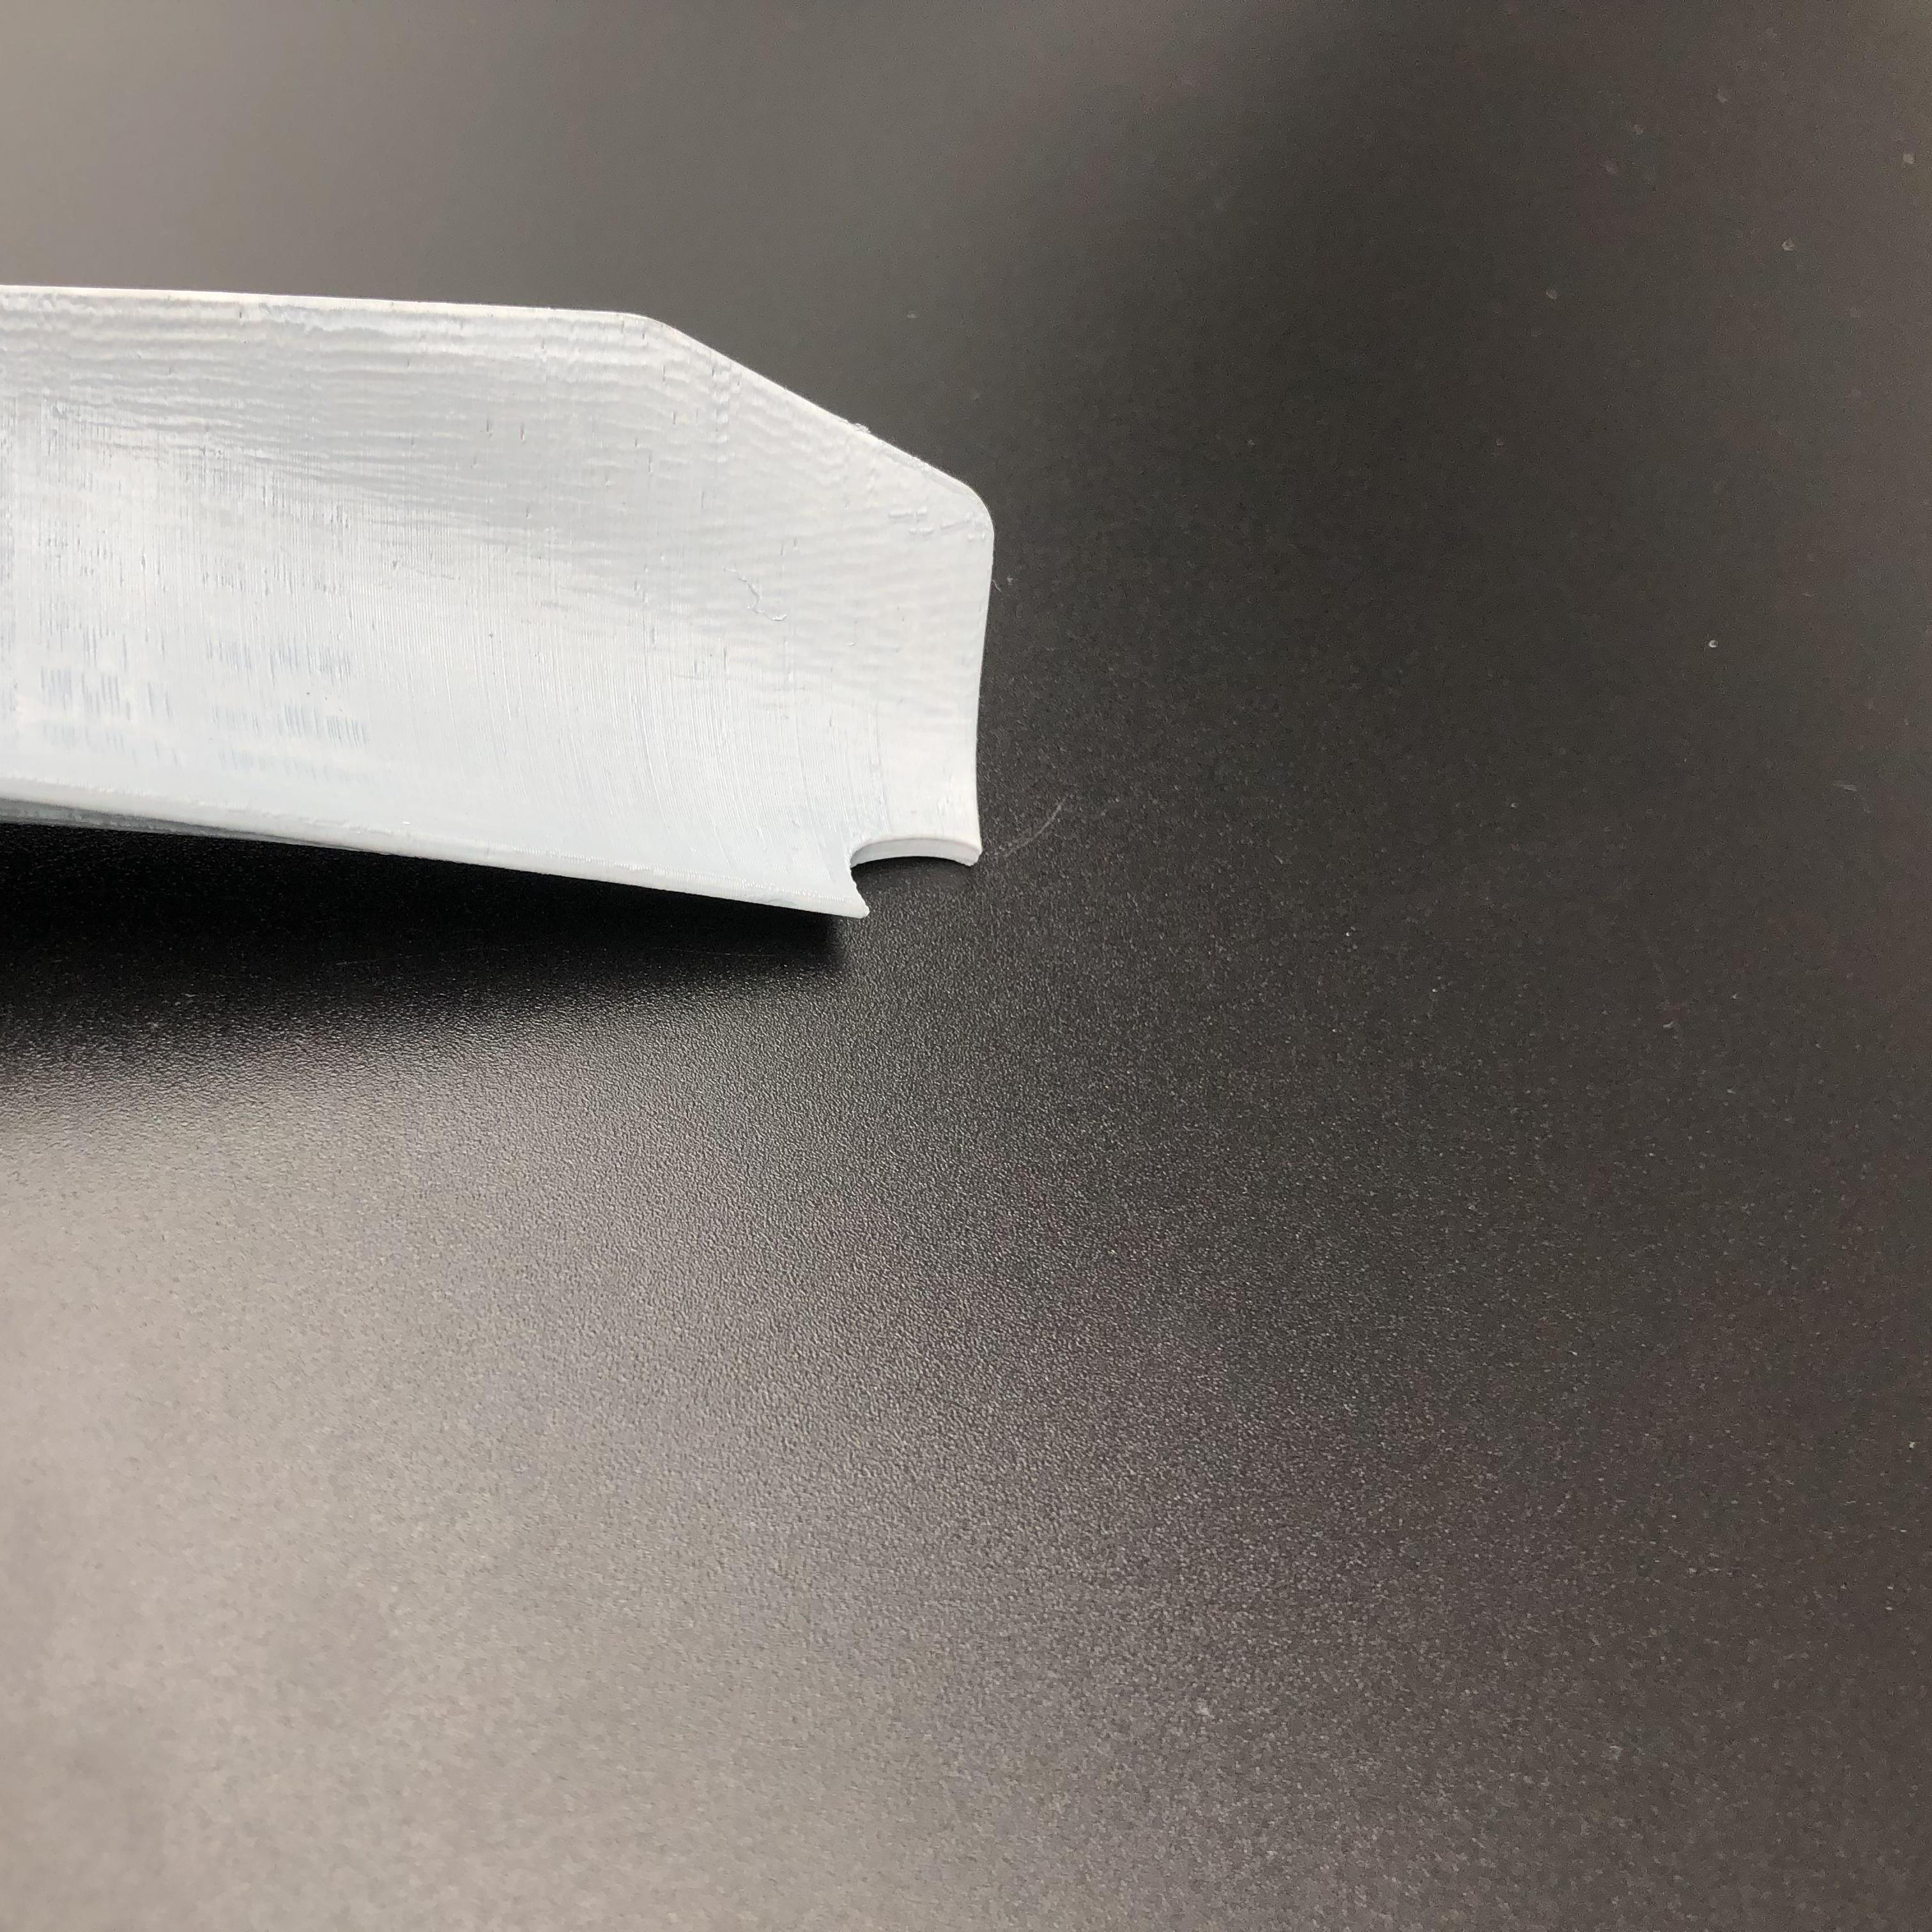fracture: (855, 794, 961, 922)
